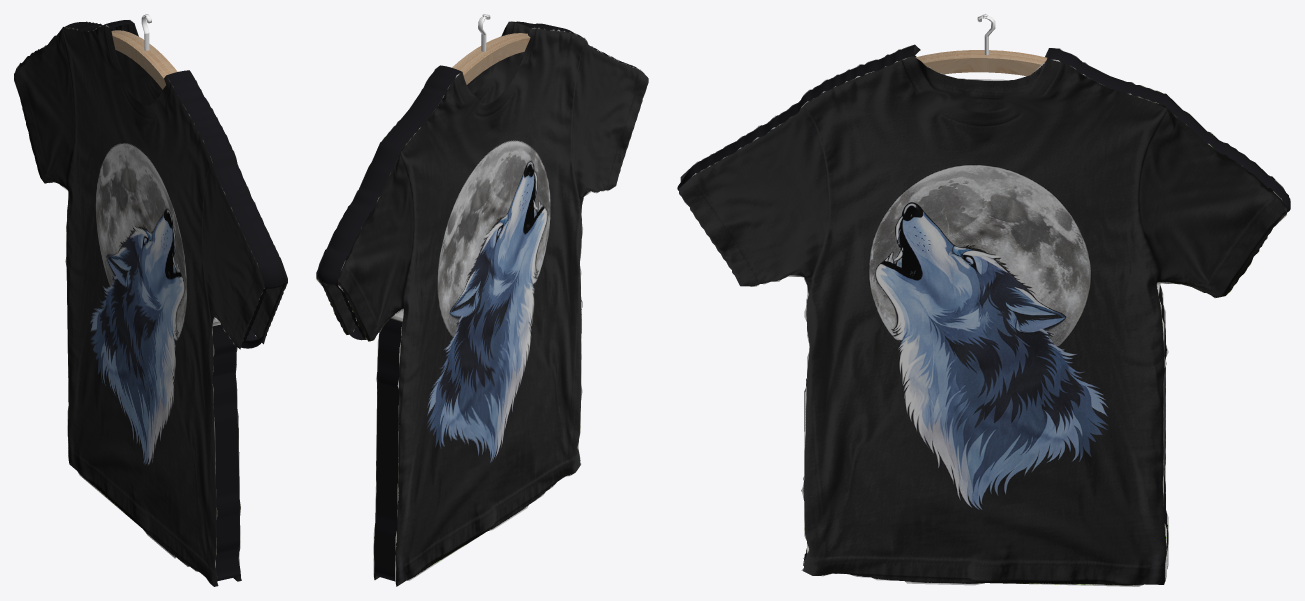
The picture shows the model from 3 angles, left to right: view 1: azimuth 30°, elevation 25°; view 2: azimuth 150°, elevation 25°; view 3: azimuth 270°, elevation 25°; orthographic projection. The views are drawn at different scales.
Visible parts, largest first — view 1: Wolf shirt, Hanger; view 2: Wolf shirt, Hanger; view 3: Wolf shirt, Hanger.
Part boxes in pixels (x1,y1,x2,y2): Wolf shirt: (14, 14, 287, 586); Hanger: (112, 15, 223, 191); Wolf shirt: (316, 14, 648, 586); Hanger: (380, 15, 524, 196); Wolf shirt: (677, 14, 1290, 586); Hanger: (924, 15, 1041, 75).
Bounding box in the file's own units: 0.4374 × 4.12 × 4.08.
Materials: 4 (3 with a texture image).
